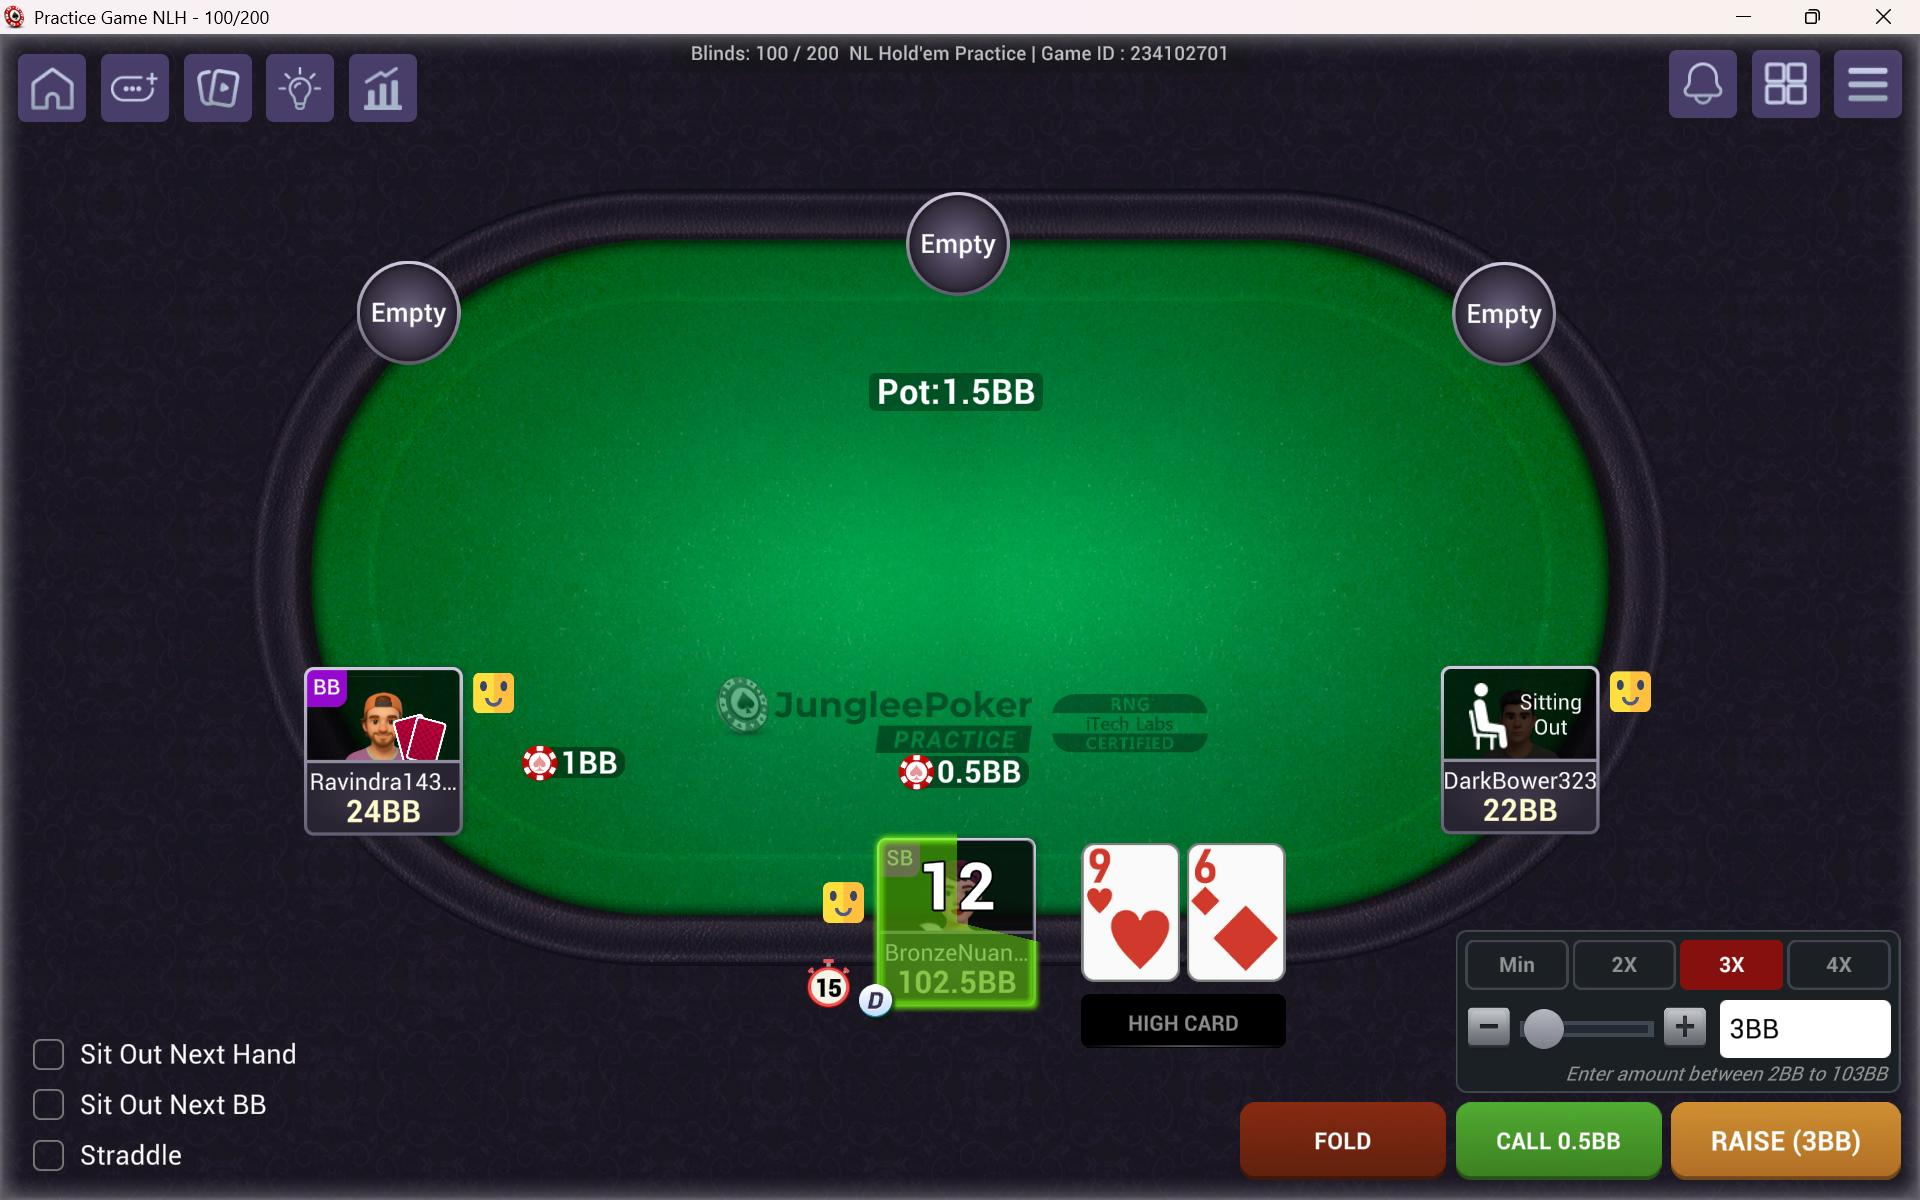button_call: (1456, 1098, 1660, 1181)
button_fold: (1234, 1103, 1447, 1179)
button_raise: (1670, 1094, 1902, 1181)
card1_rank: (1080, 838, 1124, 888)
card1_suite_heart: (1110, 889, 1178, 979)
card2_rank: (1190, 843, 1225, 889)
card2_suite_diamond: (1212, 890, 1280, 984)
iinput_field: (1718, 998, 1888, 1053)
my_bet: (900, 753, 1028, 791)
my_stack: (872, 961, 1034, 1002)
position_BB: (300, 658, 357, 713)
position_SB: (875, 838, 932, 890)
total_pot: (868, 368, 1042, 406)
villian1_bet: (300, 798, 455, 827), (525, 744, 623, 781)
villian1_name: (303, 759, 459, 798)
villian5_name: (1440, 759, 1602, 798)
villian5_stack: (1444, 794, 1597, 834)
